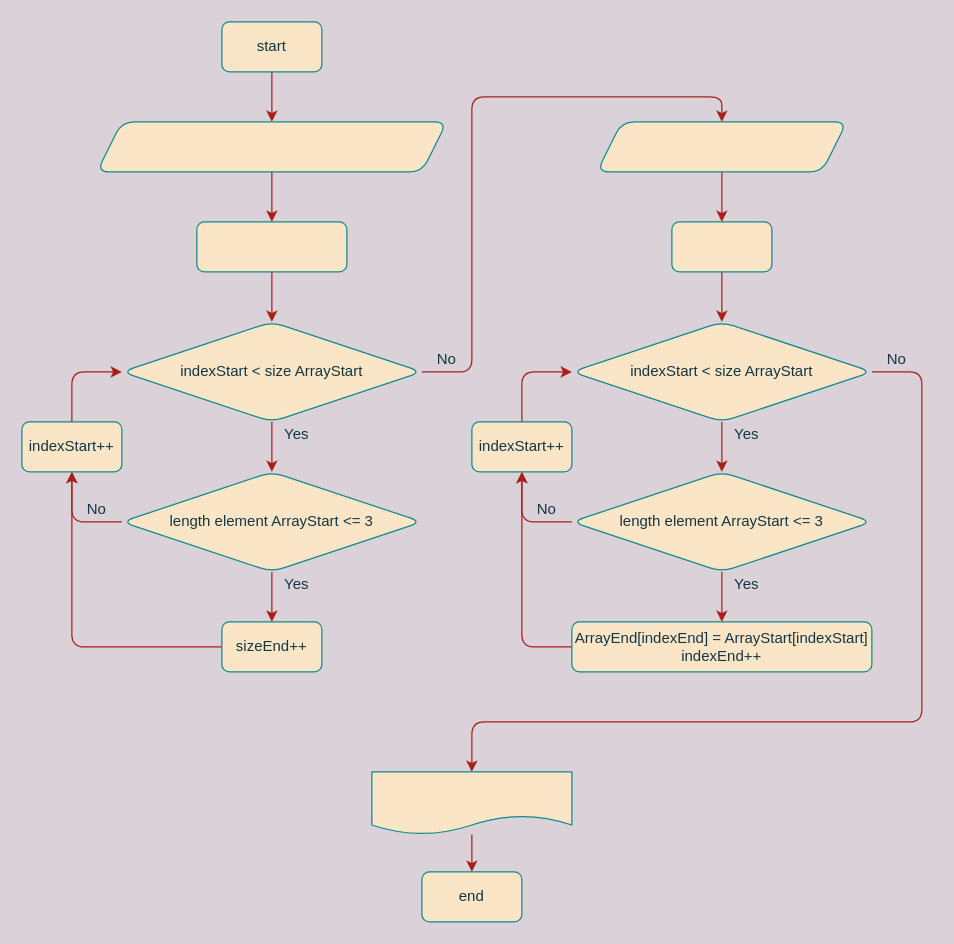
Some shapes in this 954 by 944 pixel diagram are drawn without their labels. The box of each missing label's shape, as (x1, y1, x2, y2) in pixels:
array ArrayEnd = [sizeEnd]: (596, 121, 847, 172)
array ArrayStart = ["hello", "2", "world", ":-)"]: (96, 121, 447, 172)
indexStart = 0 indexEnd = 0: (671, 221, 772, 272)
Print(ArrayStart) Println(ArrayEnd): (371, 771, 572, 834)
sizeEnd = 0 indexStart = 0: (196, 221, 347, 272)
